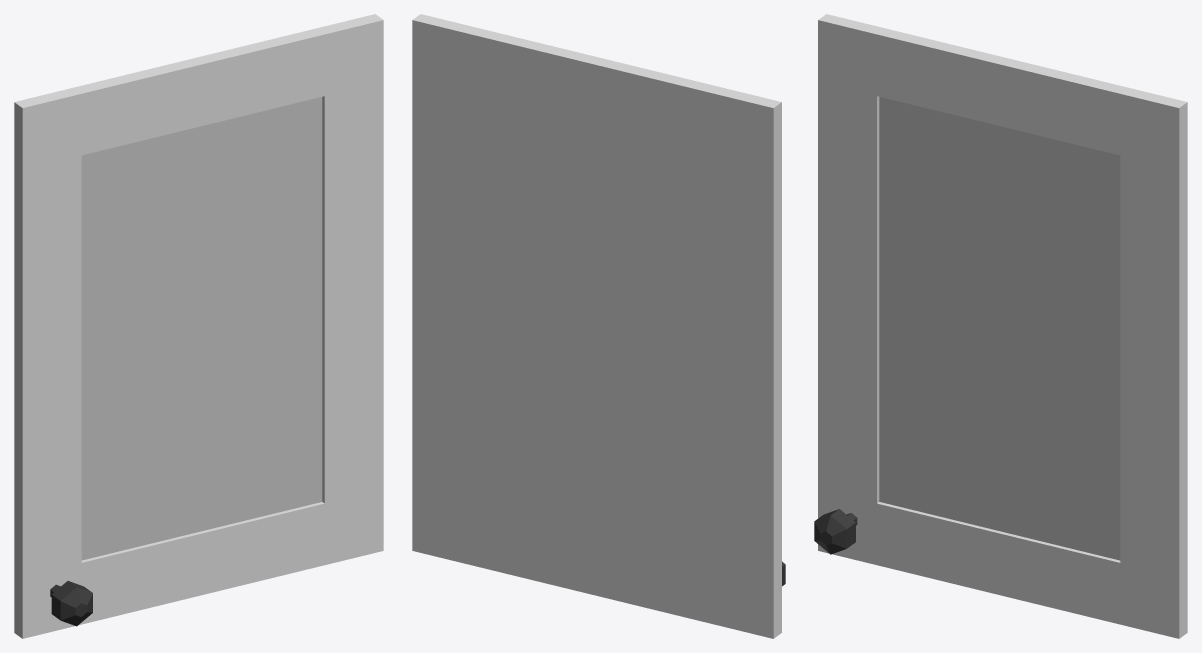
Rendered from Wardrobe7_C1_04.fbx.
3 views of the same model, side by side, from view 1: azimuth 30°, elevation 25°; view 2: azimuth 150°, elevation 25°; view 3: azimuth 330°, elevation 25° (orthographic).
Visible parts, largest first — view 1: Wardrobe7_C1_04; view 2: Wardrobe7_C1_04; view 3: Wardrobe7_C1_04.
Boxes of the visible parts, x1=… form: Wardrobe7_C1_04: x1=14, y1=14, x2=383, y2=638; Wardrobe7_C1_04: x1=412, y1=14, x2=785, y2=638; Wardrobe7_C1_04: x1=814, y1=14, x2=1187, y2=638.
Bounding box in the file's own units: 50 × 70.23 × 8.1.
